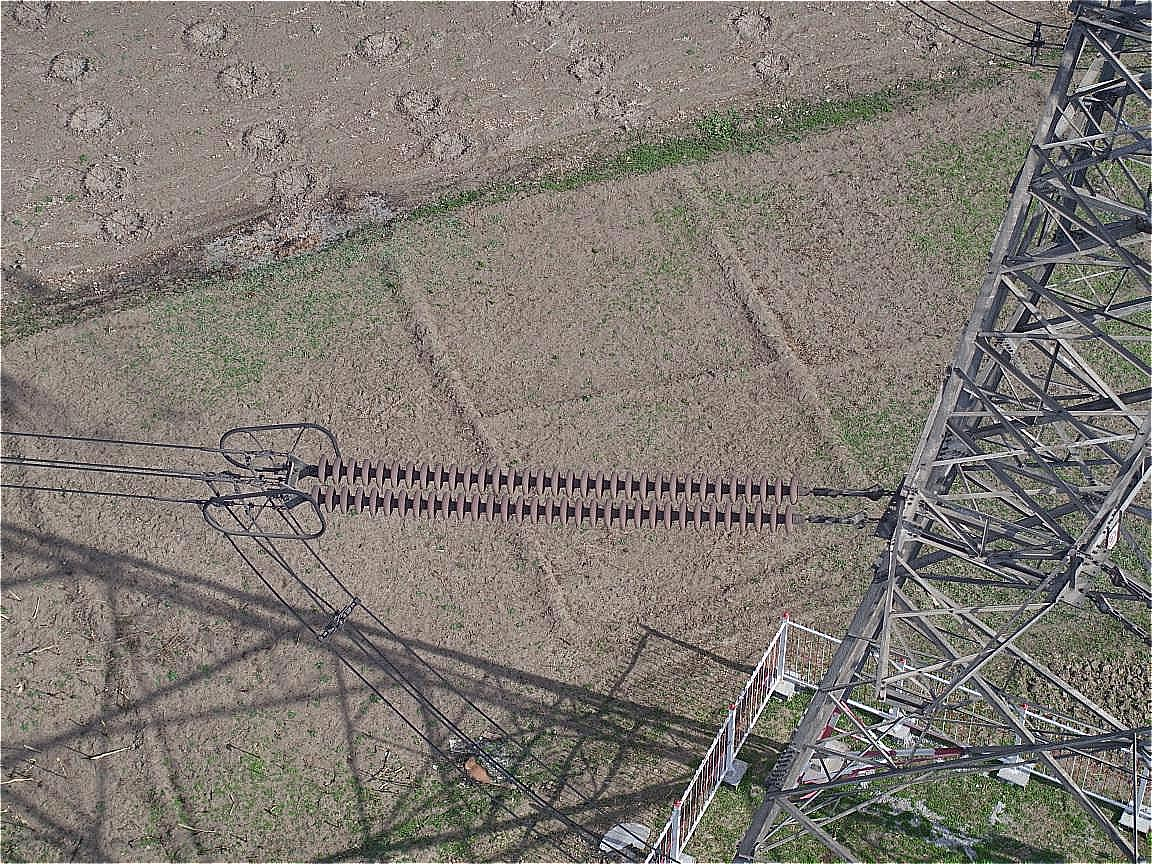insultor1: (289, 438, 822, 560)
